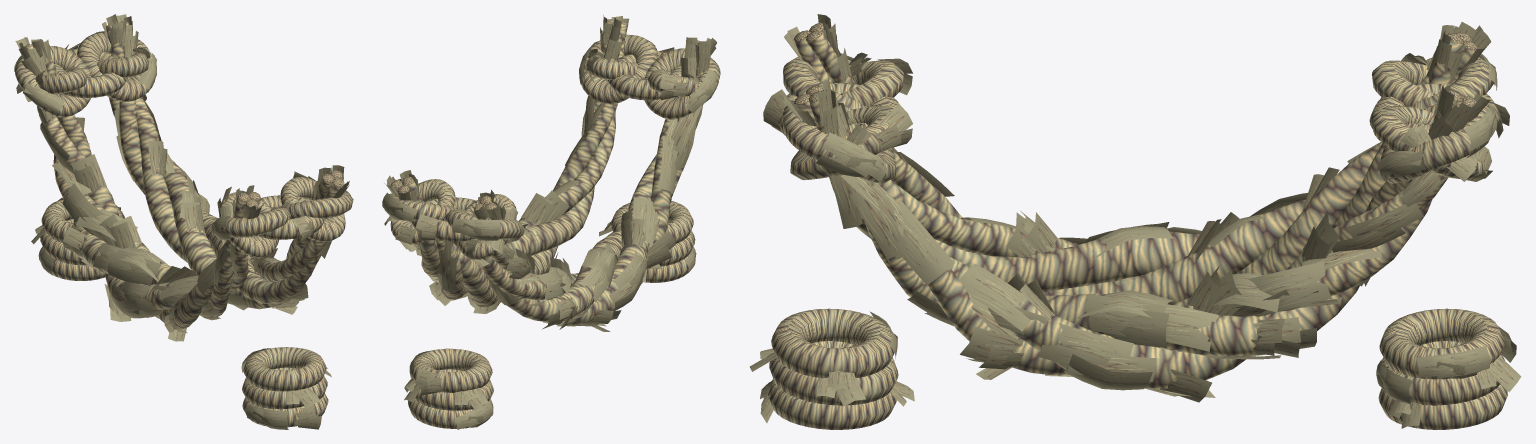
The model's file is SM_Torii_gate_sacred_rope.fbx.
3 views of the same model, side by side, from view 1: azimuth 30°, elevation 25°; view 2: azimuth 150°, elevation 25°; view 3: azimuth 270°, elevation 25° (orthographic). The views are drawn at different scales.
Parts seen in each view (by area): view 1: SM_Torii_gate_sacred_rope_LOD0; view 2: SM_Torii_gate_sacred_rope_LOD0; view 3: SM_Torii_gate_sacred_rope_LOD0.
Part boxes in pixels (bbox=[...]): SM_Torii_gate_sacred_rope_LOD0: bbox=[14, 14, 353, 429]; SM_Torii_gate_sacred_rope_LOD0: bbox=[382, 15, 720, 429]; SM_Torii_gate_sacred_rope_LOD0: bbox=[749, 14, 1521, 429].
Size of the model in its own units: 121 by 359 by 186.
